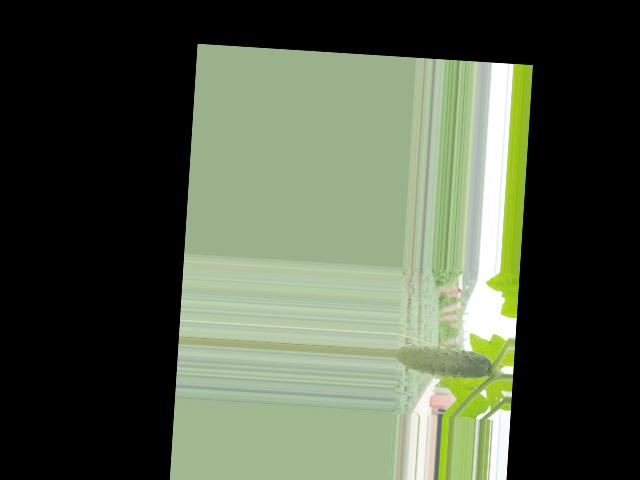cucumber: (394, 342, 492, 379)
